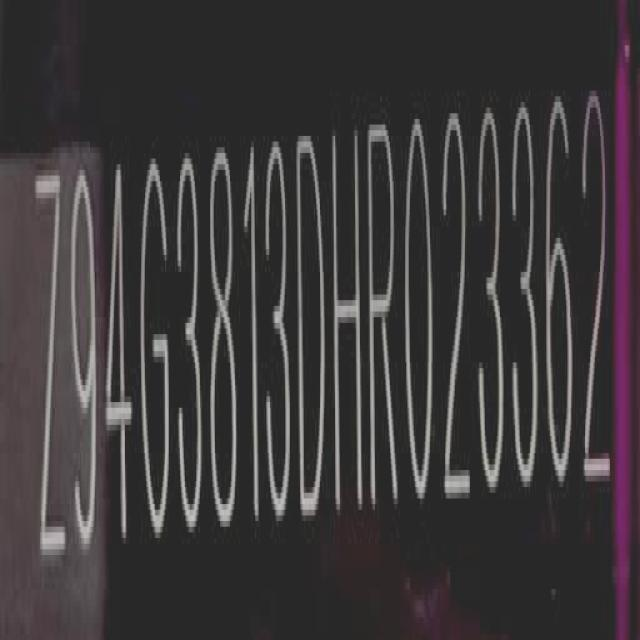0: (404, 113, 436, 513)
1: (245, 139, 261, 536)
2: (583, 93, 617, 493), (440, 109, 473, 510)
3: (264, 136, 294, 528), (512, 101, 542, 492), (478, 107, 506, 500), (180, 149, 206, 541)
4: (104, 158, 137, 555)
6: (547, 94, 576, 492)
8: (209, 145, 239, 537)
9: (69, 160, 100, 568)
D: (294, 121, 328, 528)
G: (140, 156, 172, 547)
H: (331, 117, 366, 512)
R: (370, 114, 402, 521)
Z: (38, 161, 66, 577)
